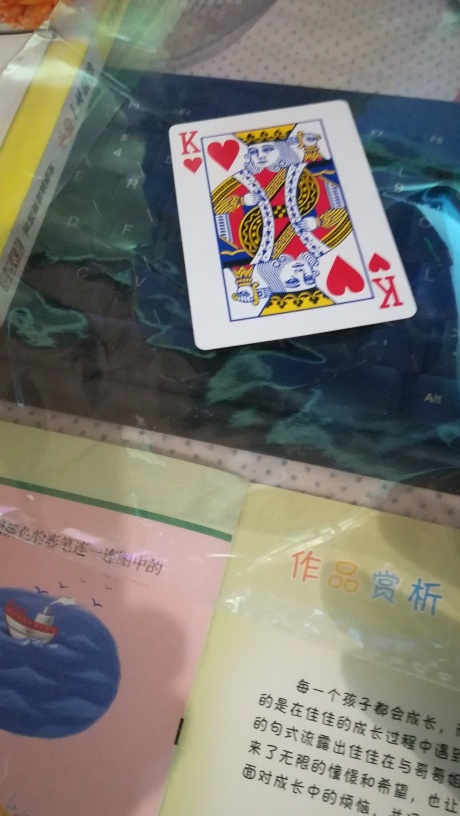hx k: (162, 88, 421, 350)
